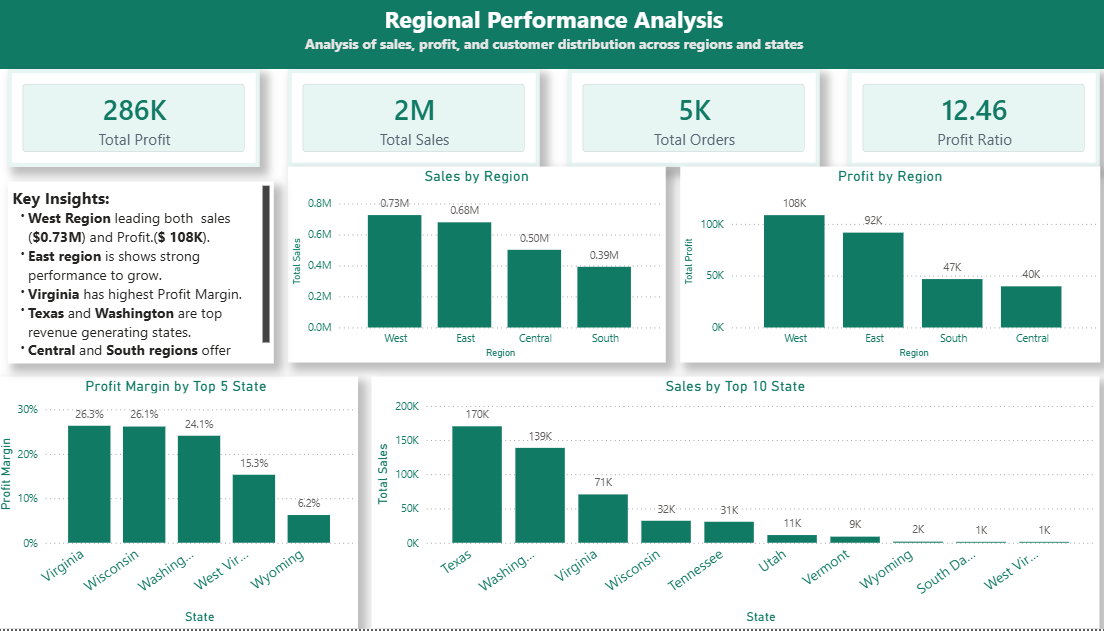

The dashboard page shown, as its layout file describes it:
{"tool":"powerbi","page":{"name":"Regional Analysis","canvas":[1280,720],"ordinal":3},"visuals":[{"type":"textbox","box":[0,0,1280,80],"z":0},{"type":"cardVisual","fields":{"Data":["Sample - Superstore.Total Profit"]},"box":[16,80,288,112],"z":1000},{"type":"cardVisual","fields":{"Data":["Sample - Superstore.Total Sales"]},"box":[336,80,288,112],"z":2000},{"type":"cardVisual","fields":{"Data":["Sample - Superstore.Total Orders"]},"box":[656,80,288,112],"z":3000},{"type":"cardVisual","fields":{"Data":["Sample - Superstore.Profit Ratio"]},"box":[976,80,288,112],"z":4000},{"type":"clusteredColumnChart","title":"Sales by Region","fields":{"Category":["Sample - Superstore.Region"],"Y":["Sample - Superstore.Total Sales"]},"box":[336,192,432,224],"z":5000},{"type":"clusteredColumnChart","title":"Profit Margin by Top 5 State","fields":{"Y":["Sample - Superstore.Profit Margin"],"Category":["Sample - Superstore.State"]},"box":[0,432,416,288],"z":6000},{"type":"clusteredColumnChart","title":"Profit by Region","fields":{"Category":["Sample - Superstore.Region"],"Y":["Sample - Superstore.Total Profit"]},"box":[784,192,480,224],"z":7000},{"type":"clusteredColumnChart","title":"Sales by Top 10 State","fields":{"Category":["Sample - Superstore.State"],"Y":["Sample - Superstore.Total Sales"]},"box":[432,432,832,288],"z":8000},{"type":"textbox","box":[16,208,304,208],"z":9000}]}

Visuals, with their boxes in screenshot pixels (x1, y1, x2, y2), scaled from the page's 1280x720 canvas onto the 1104x631 screenshot:
textbox: pyautogui.locateOnScreen(0, 0, 1103, 70)
cardVisual - Sample - Superstore.Total Profit: pyautogui.locateOnScreen(14, 70, 262, 168)
cardVisual - Sample - Superstore.Total Sales: pyautogui.locateOnScreen(290, 70, 538, 168)
cardVisual - Sample - Superstore.Total Orders: pyautogui.locateOnScreen(566, 70, 814, 168)
cardVisual - Sample - Superstore.Profit Ratio: pyautogui.locateOnScreen(842, 70, 1090, 168)
"Sales by Region" clusteredColumnChart: pyautogui.locateOnScreen(290, 168, 662, 365)
"Profit Margin by Top 5 State" clusteredColumnChart: pyautogui.locateOnScreen(0, 379, 359, 630)
"Profit by Region" clusteredColumnChart: pyautogui.locateOnScreen(676, 168, 1090, 365)
"Sales by Top 10 State" clusteredColumnChart: pyautogui.locateOnScreen(373, 379, 1090, 630)
textbox: pyautogui.locateOnScreen(14, 182, 276, 365)
